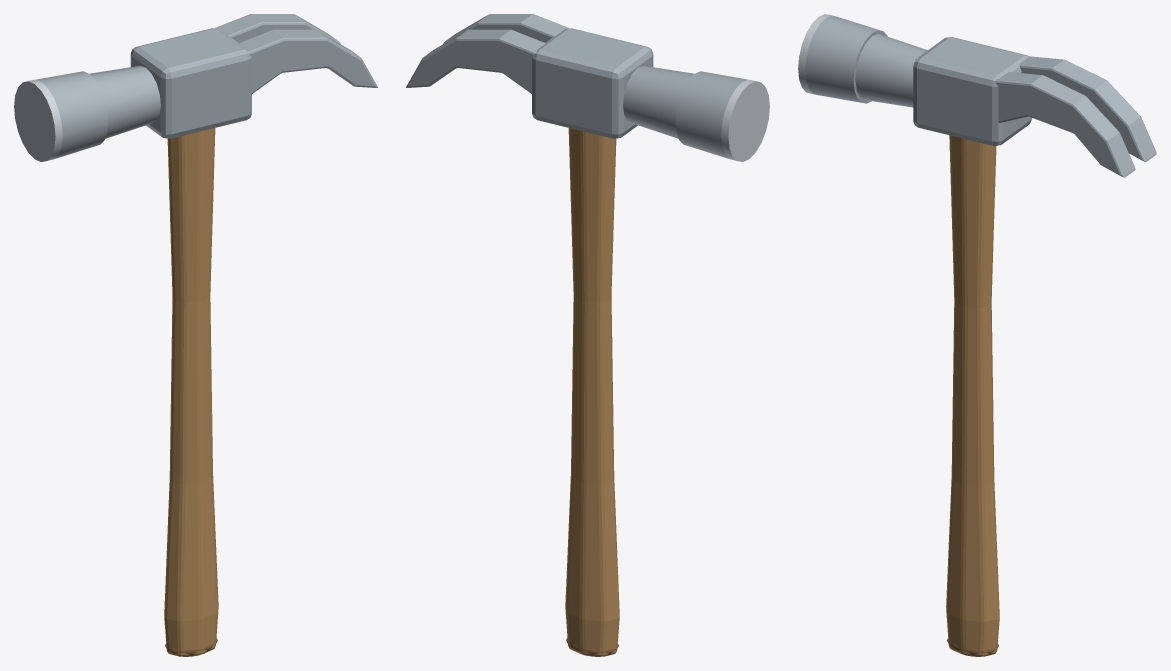
File: hammer_claw.glb
3 renders of one model, left to right at view 1: azimuth 30°, elevation 25°; view 2: azimuth 150°, elevation 25°; view 3: azimuth 330°, elevation 25°, orthographic.
Visible parts, largest first — view 1: Shaped wooden hammer handle, Steel hammer eye, Left curved claw tine, Striking head, Striking neck, Flat striking face, Right curved claw tine; view 2: Shaped wooden hammer handle, Steel hammer eye, Right curved claw tine, Striking head, Striking neck, Flat striking face, Left curved claw tine; view 3: Shaped wooden hammer handle, Steel hammer eye, Left curved claw tine, Striking head, Right curved claw tine, Striking neck, Flat striking face.
Boxes of the visible parts, x1,y1,x2,y2 form: Shaped wooden hammer handle: [164, 128, 218, 656]; Steel hammer eye: [130, 28, 251, 138]; Left curved claw tine: [238, 29, 377, 93]; Striking head: [36, 71, 108, 158]; Striking neck: [89, 65, 160, 138]; Flat striking face: [14, 79, 62, 161]; Right curved claw tine: [215, 14, 340, 43]; Shaped wooden hammer handle: [565, 128, 619, 656]; Steel hammer eye: [532, 28, 653, 138]; Right curved claw tine: [406, 29, 545, 93]; Striking head: [675, 71, 747, 158]; Striking neck: [623, 65, 694, 138]; Flat striking face: [721, 79, 769, 161]; Left curved claw tine: [443, 14, 568, 43]; Shaped wooden hammer handle: [946, 135, 999, 656]; Steel hammer eye: [913, 37, 1032, 145]; Left curved claw tine: [995, 72, 1135, 177]; Striking head: [805, 16, 887, 103]; Right curved claw tine: [1019, 56, 1156, 161]; Striking neck: [855, 34, 927, 107]; Flat striking face: [798, 14, 835, 94].
Bounding box in the file's own units: 0.2275 × 0.405 × 0.05.
